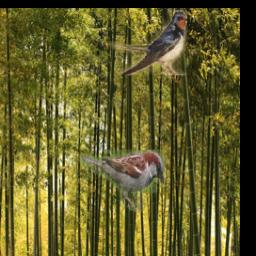Sparrow: (80, 151, 165, 214)
Swallow: (101, 11, 188, 76)
